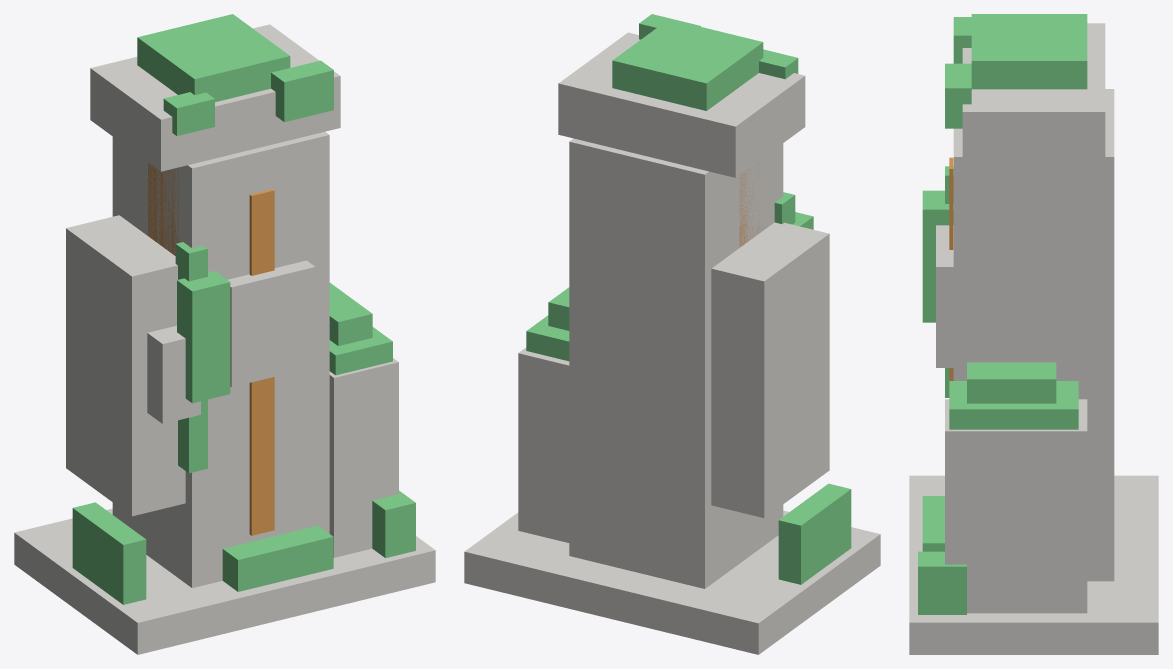
Rendered from walddei-monolith.glb.
3 views of the same model, side by side, from view 1: azimuth 30°, elevation 25°; view 2: azimuth 150°, elevation 25°; view 3: azimuth 270°, elevation 25° (orthographic). The views are drawn at different scales.
Parts seen in each view (by area): view 1: ConcreteFloraMonolithGroup; view 2: ConcreteFloraMonolithGroup; view 3: ConcreteFloraMonolithGroup.
Part boxes in pixels (box(x1,y1,x2,y2)): ConcreteFloraMonolithGroup: box(14, 14, 435, 654); ConcreteFloraMonolithGroup: box(464, 14, 880, 654); ConcreteFloraMonolithGroup: box(909, 14, 1158, 654).
Size of the model in its own units: 0.78 by 1.33 by 0.56.
